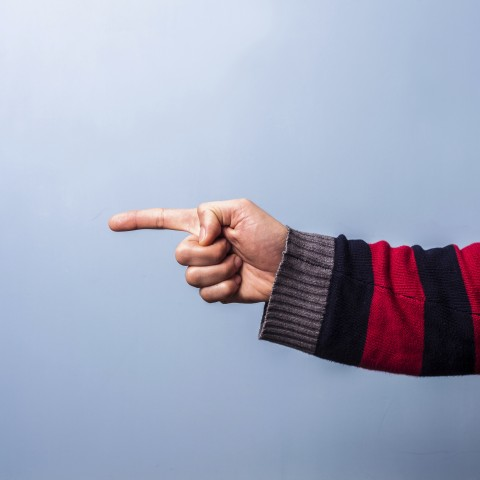pointing_gesture: (108, 196, 291, 311)
